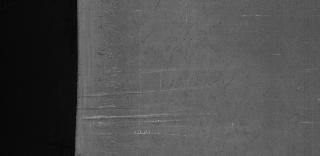scratches: (86, 113, 188, 125), (86, 89, 170, 99), (84, 104, 136, 110)
